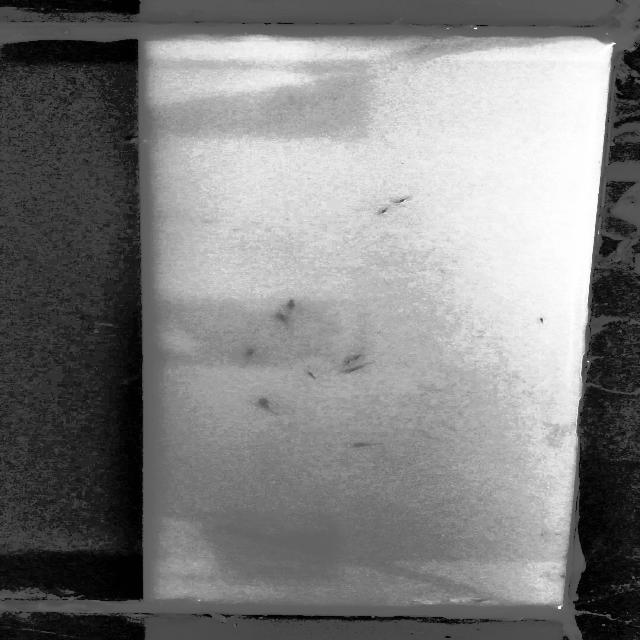shrimp: (251, 394, 283, 416), (349, 438, 387, 451), (306, 370, 328, 387), (388, 195, 414, 206), (343, 366, 365, 378), (466, 595, 496, 603), (346, 353, 372, 362), (282, 297, 303, 308), (276, 310, 288, 324), (336, 358, 356, 366), (537, 316, 553, 326), (379, 204, 392, 216), (247, 347, 260, 356)
